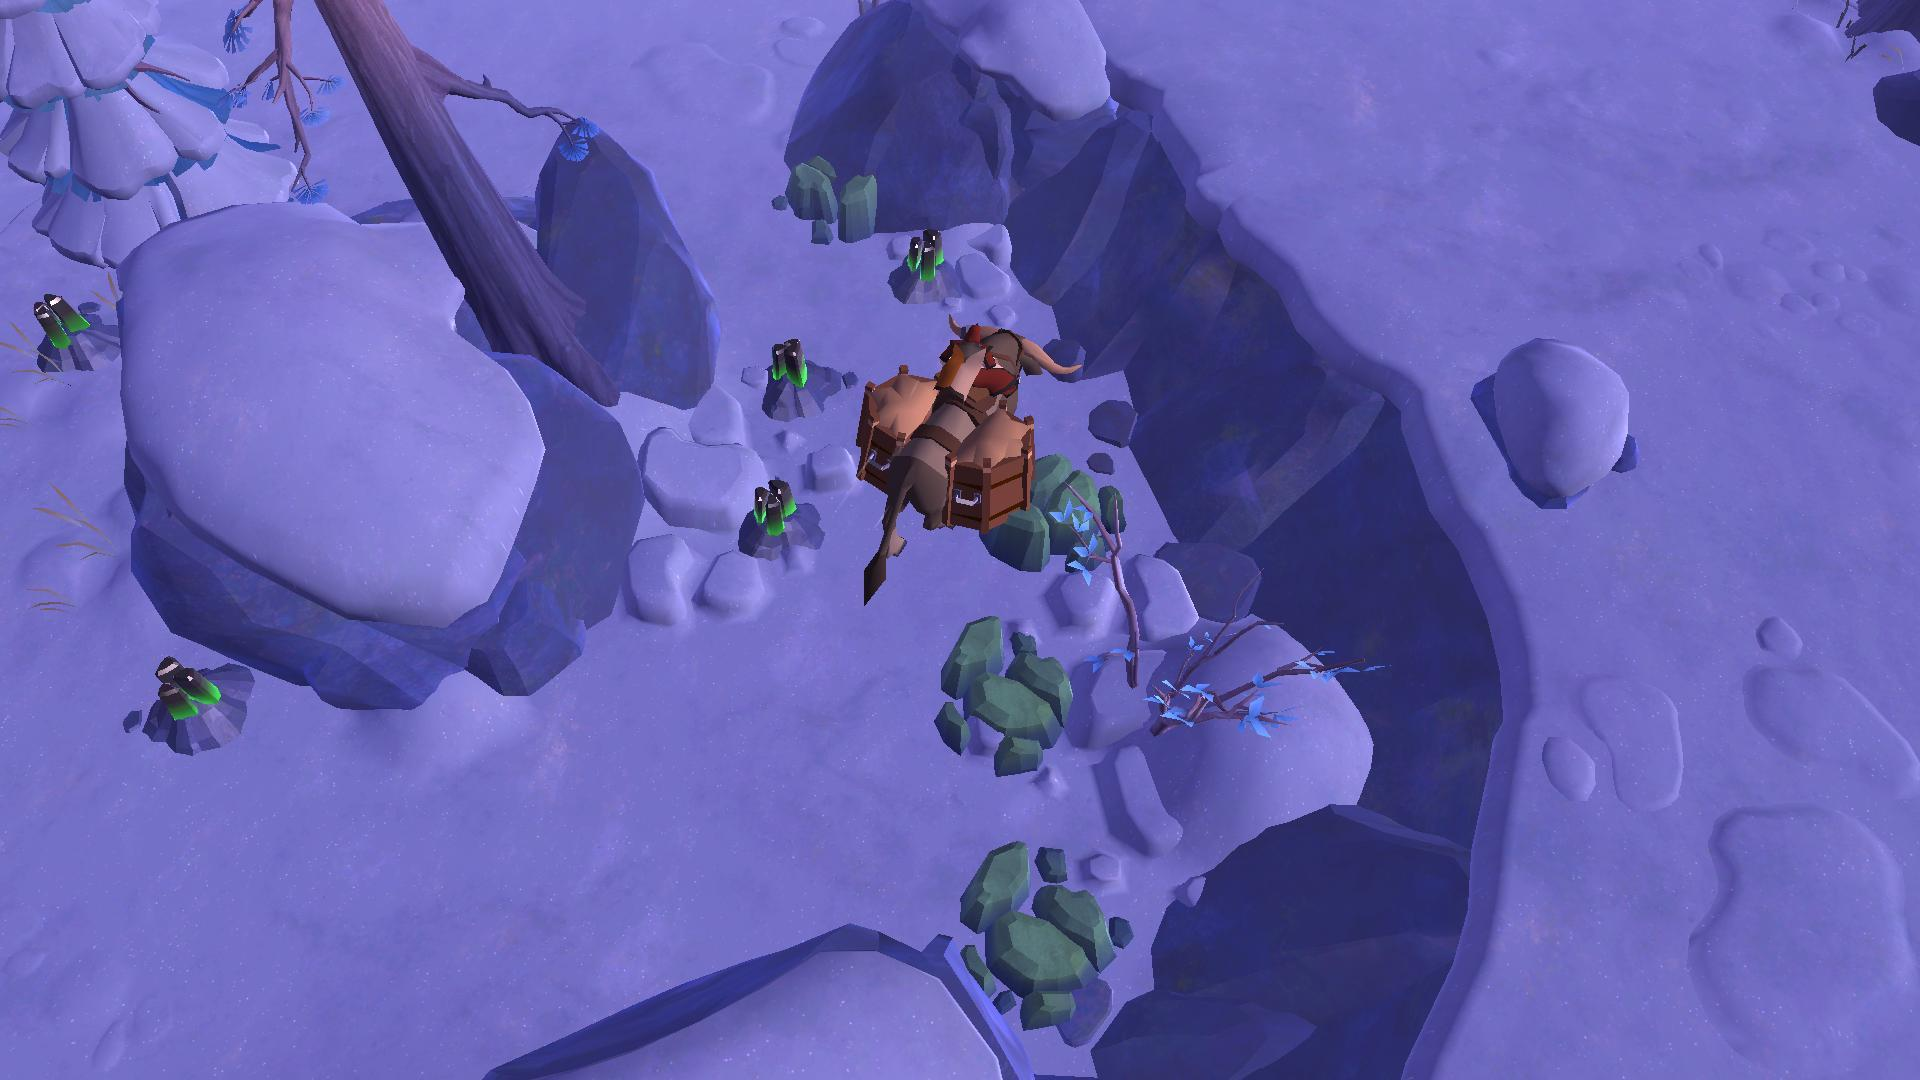ore_t3: (146, 653, 216, 721), (28, 287, 84, 344), (897, 225, 951, 277), (746, 475, 794, 533), (766, 331, 811, 386)
rock_t3: (939, 836, 1134, 1030), (926, 611, 1076, 775), (971, 443, 1138, 568), (777, 145, 882, 244)
